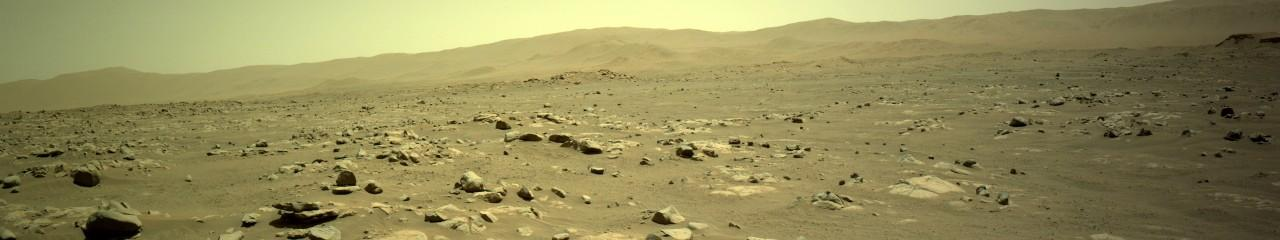bedrock: (4, 54, 1277, 237)
big_rock: (63, 233, 369, 237), (1252, 27, 1276, 47)
sand: (2, 6, 1251, 119), (976, 74, 1093, 77)
soil: (1167, 231, 1222, 235), (1046, 231, 1142, 233), (1271, 53, 1277, 71), (1140, 225, 1174, 227)
